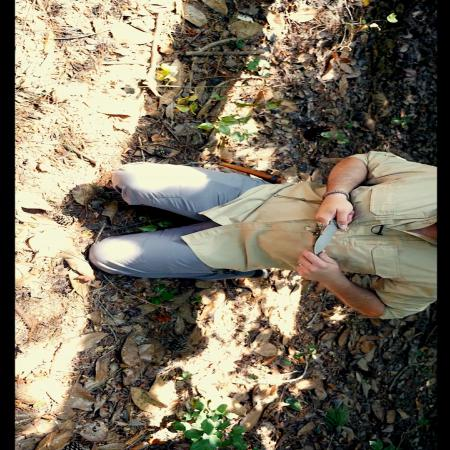long weapon: (308, 203, 356, 258)
